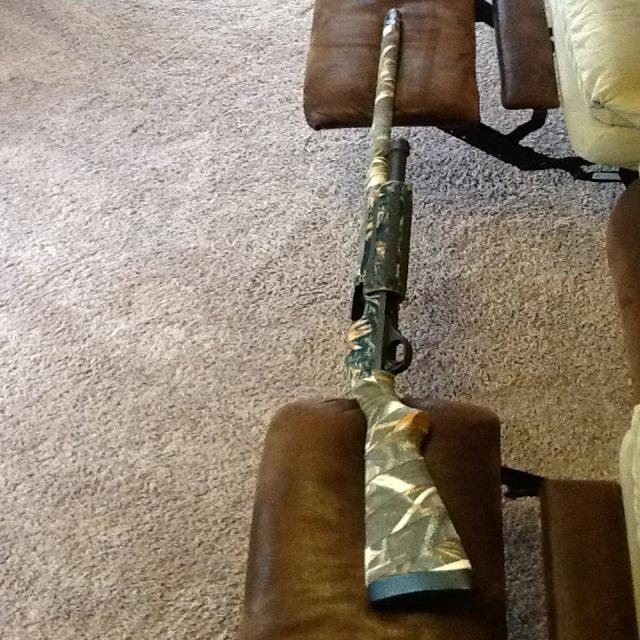ShotGun: (347, 10, 475, 606)
